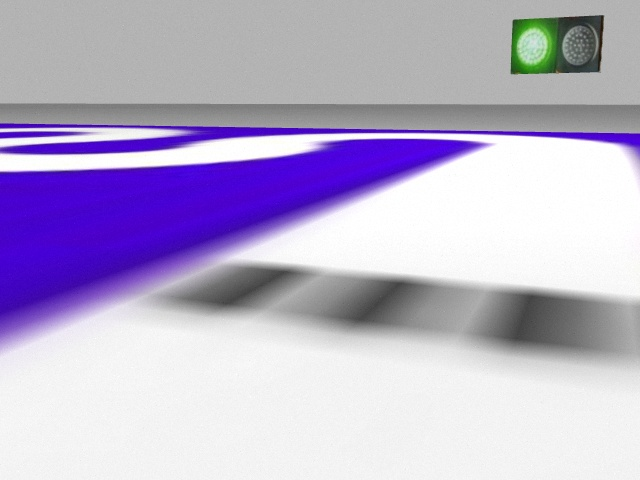green: (512, 18, 555, 71)
